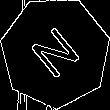N_SE: (24, 20, 86, 85)
